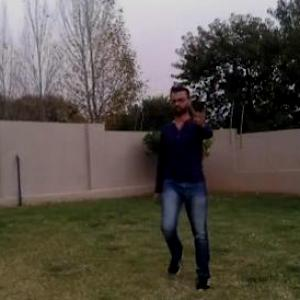takeoff-hand: (187, 96, 217, 132)
